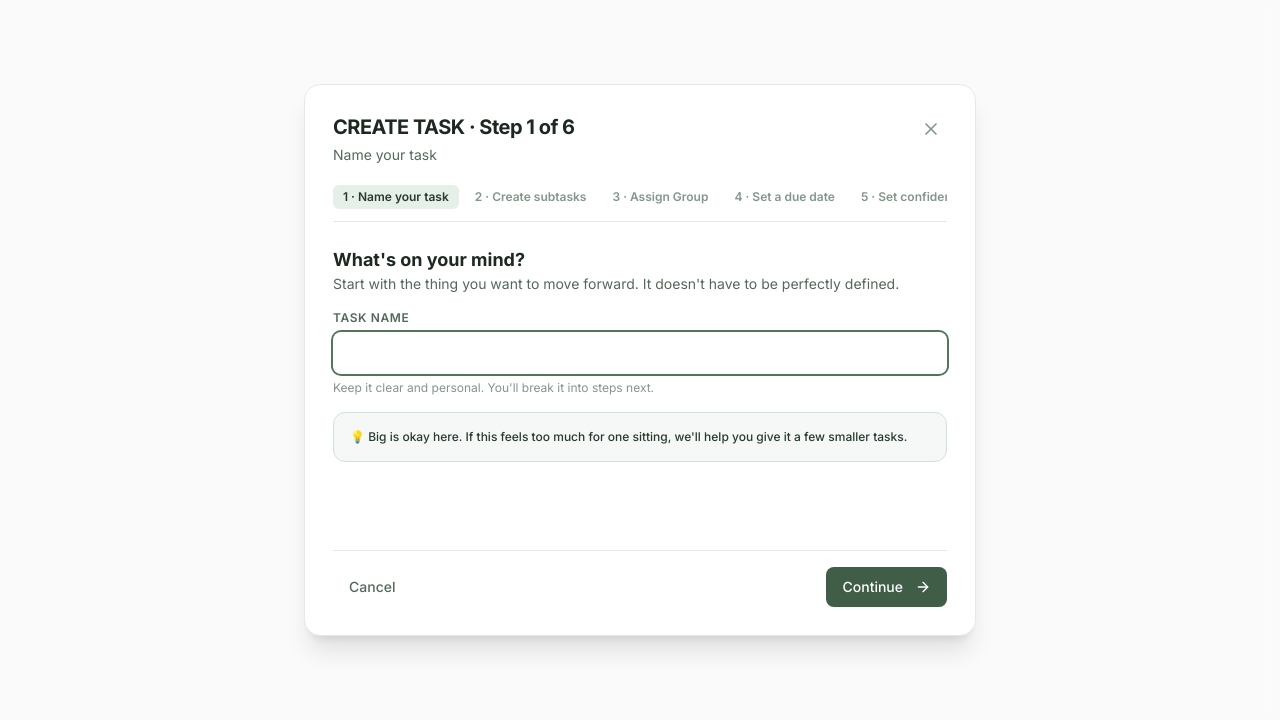
Test: CreateTaskWizardModal › allows clicking previous step breadcrumb buttons to jump back
The width and height of the screenshot is (1280, 720).
fill name and click Next
Type "Study for Chemistry" into the field labelled "Task Name" at (640, 353), box [333,332,947,374]
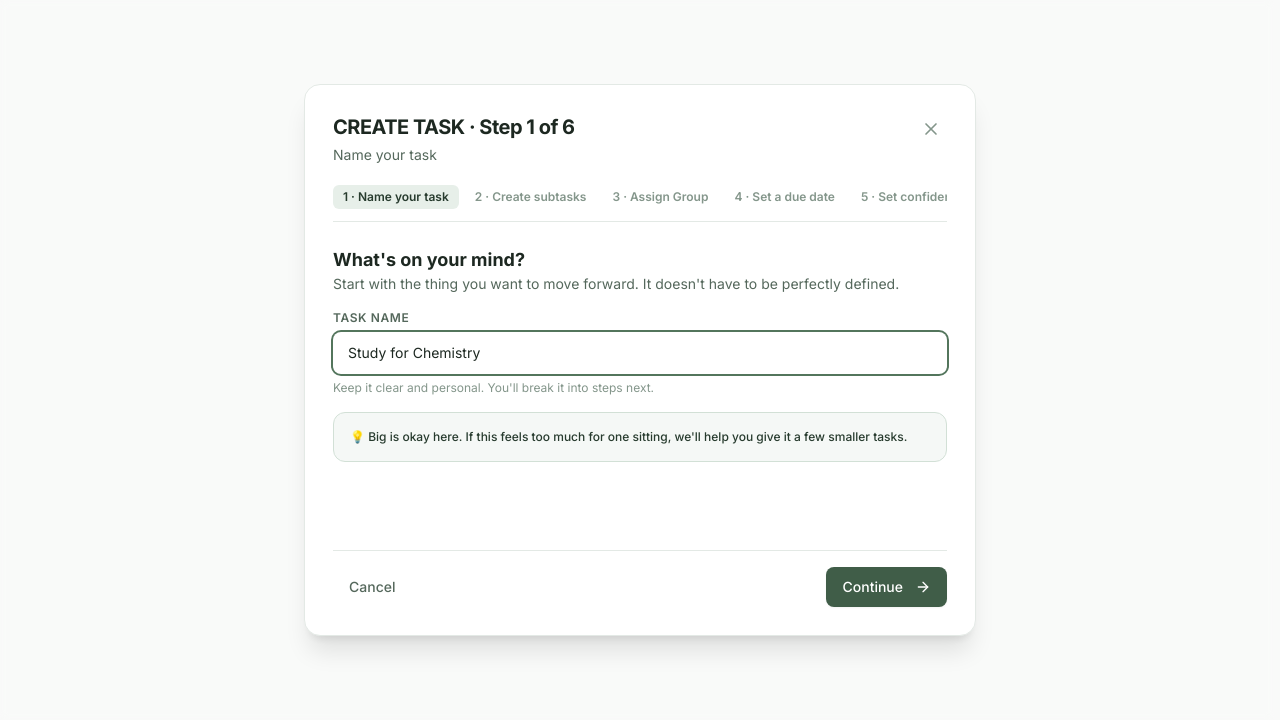
Click the button "Continue" at (887, 587), box [826,567,947,607]
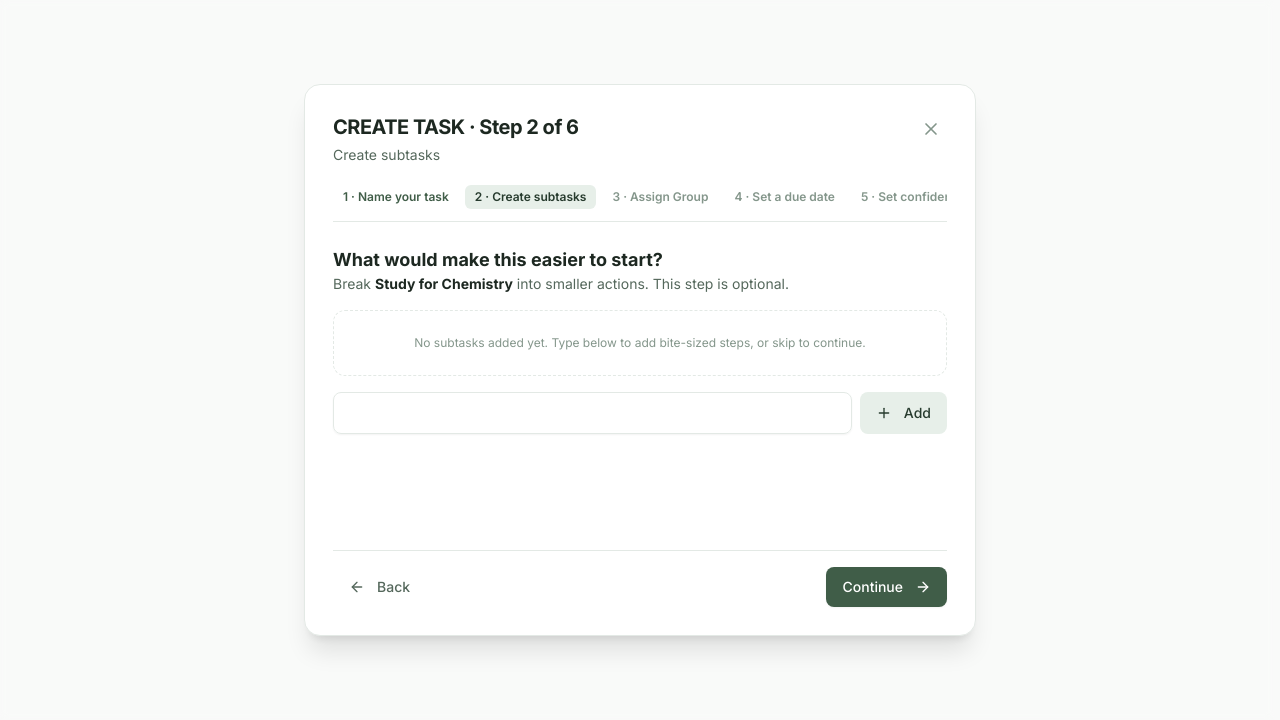
Expected: the heading "CREATE TASK · Step 2 of 6" is shown, [333,113,579,141]
Expected: the button "1 · Name your task" is enabled
Click step 1 breadcrumb to jump directly back
Click the button "1 · Name your task" at (396, 197), box [333,185,459,209]
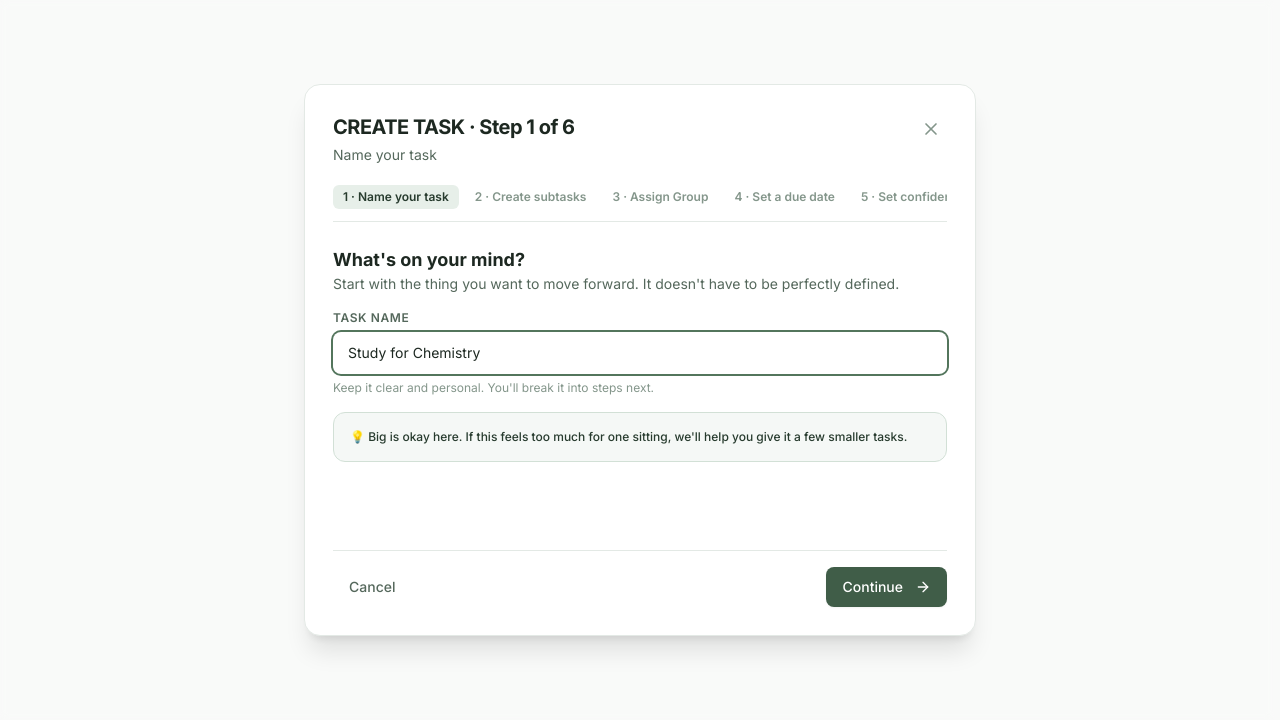
Expected: the heading "CREATE TASK · Step 1 of 6" is shown, [333,113,575,141]
